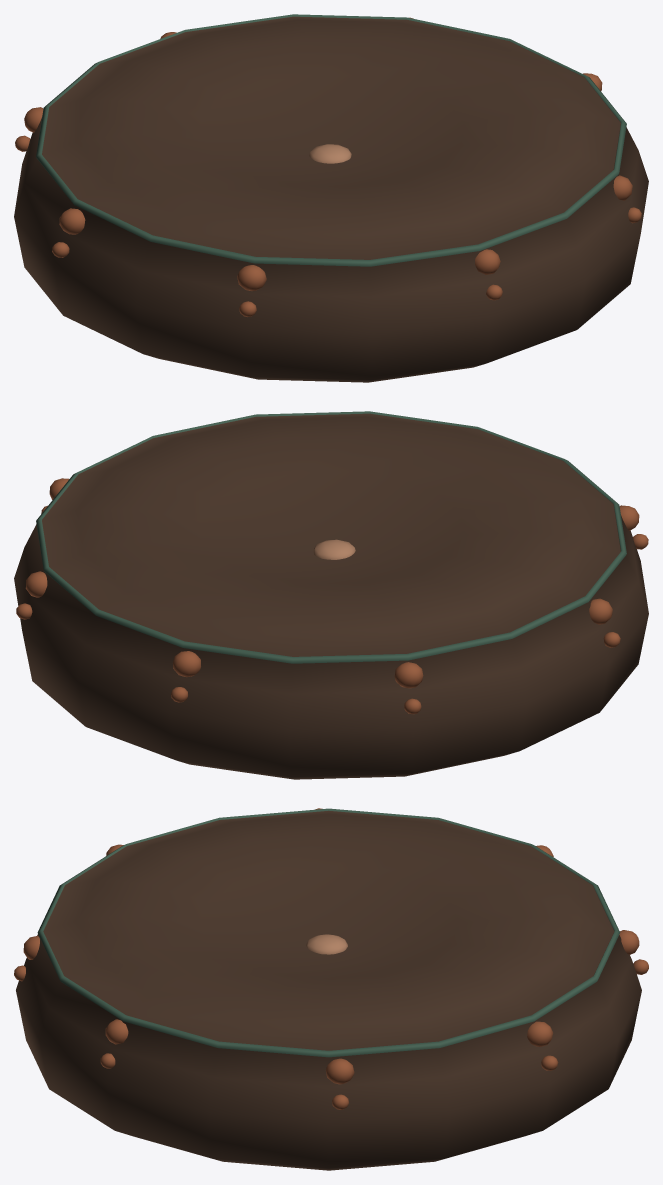
The model's file is fbx_pillow_05.fbx.
The picture shows the model from 3 angles, top to bottom: view 1: azimuth 30°, elevation 25°; view 2: azimuth 150°, elevation 25°; view 3: azimuth 270°, elevation 25°; orthographic projection. The views are drawn at different scales.
Parts seen in each view (by area): view 1: Cylinder.005; view 2: Cylinder.005; view 3: Cylinder.005.
Boxes of the visible parts, box(x1,y1,x2,y2) form: Cylinder.005: box(14, 14, 648, 382); Cylinder.005: box(14, 411, 648, 779); Cylinder.005: box(14, 808, 648, 1170).
Bounding box in the file's own units: 3.86 × 0.994 × 3.84.
